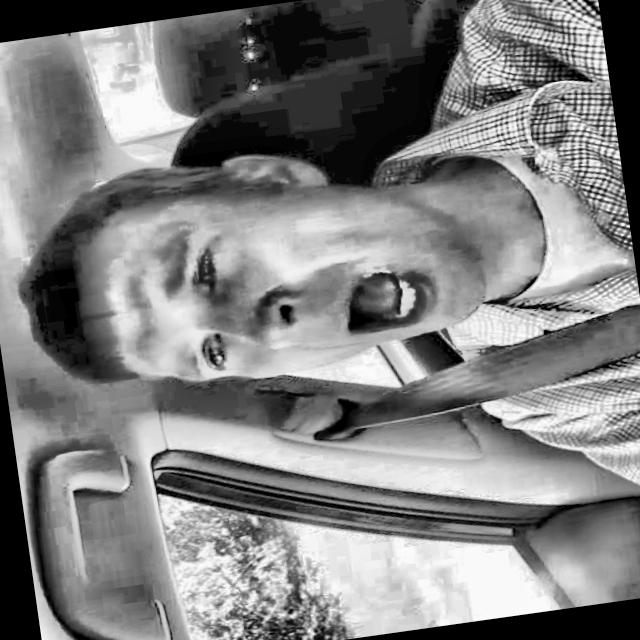open_eyes: (182, 232, 237, 303), (192, 331, 248, 388)
open_mouth: (323, 255, 452, 349)
